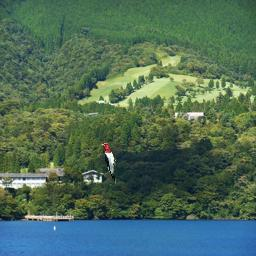Woodpecker: (101, 142, 118, 184)
